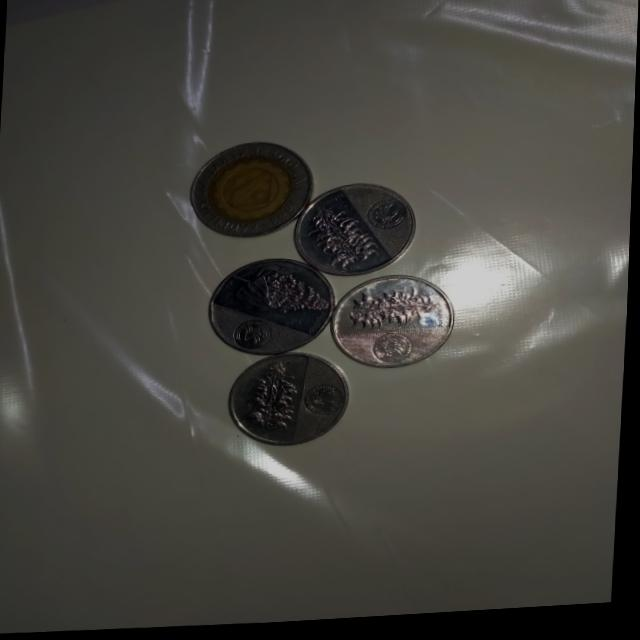10_New_Back: (219, 262, 335, 325)
10_Old_Back: (194, 142, 306, 234)
5_New_Back: (306, 192, 382, 278), (243, 361, 314, 442)
